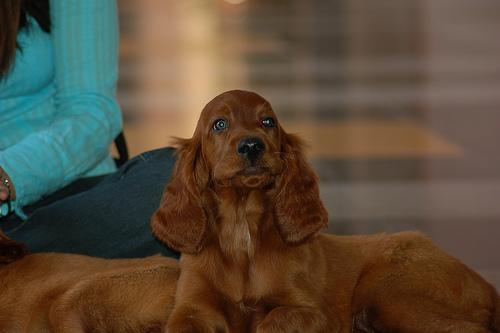Irish_setter: (149, 87, 499, 332)
